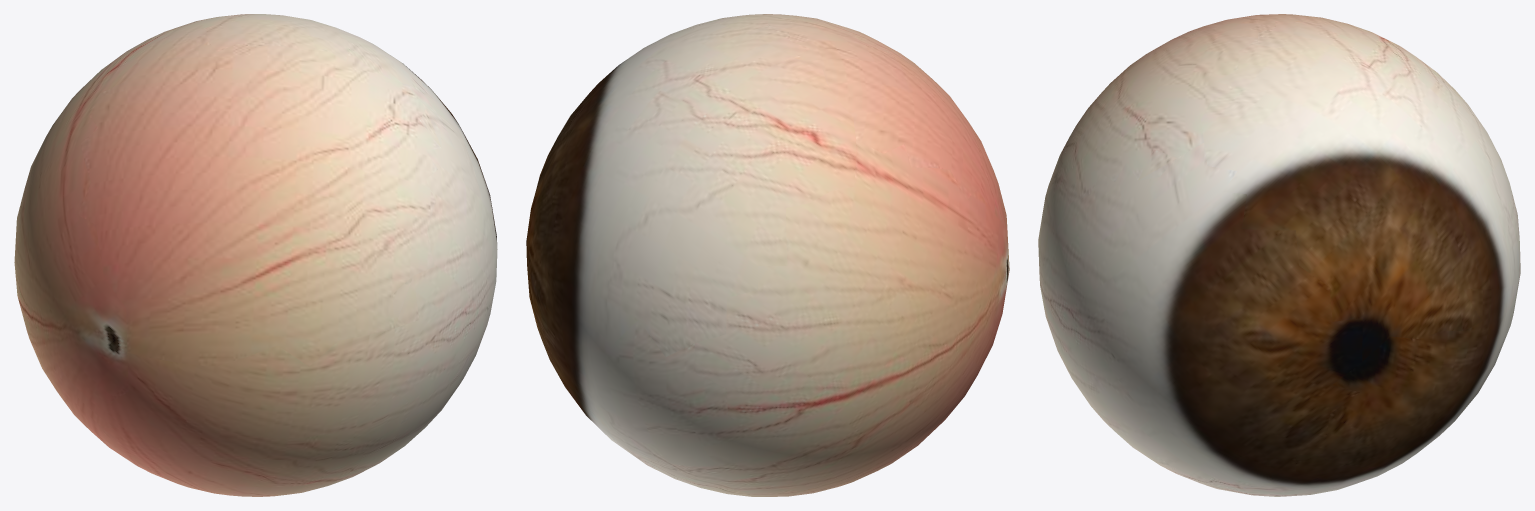
Rendered from eyeball.glb.
The picture shows the model from 3 angles, left to right: view 1: azimuth 30°, elevation 25°; view 2: azimuth 150°, elevation 25°; view 3: azimuth 270°, elevation 25°; orthographic projection.
Visible parts, largest first — view 1: eyeball; view 2: eyeball; view 3: eyeball.
Boxes of the visible parts, box(x1,y1,x2,y2) form: eyeball: box(14, 14, 497, 496); eyeball: box(526, 14, 1009, 496); eyeball: box(1038, 14, 1520, 496).
Bounding box in the file's own units: 0.0599 × 0.06 × 0.0599.
1 material, 1 textured.
